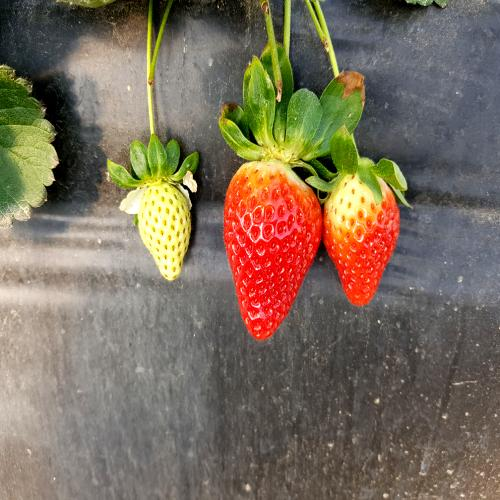partially-ripe: (322, 154, 403, 312)
ripe: (223, 144, 325, 354)
unripe: (132, 178, 200, 292)
